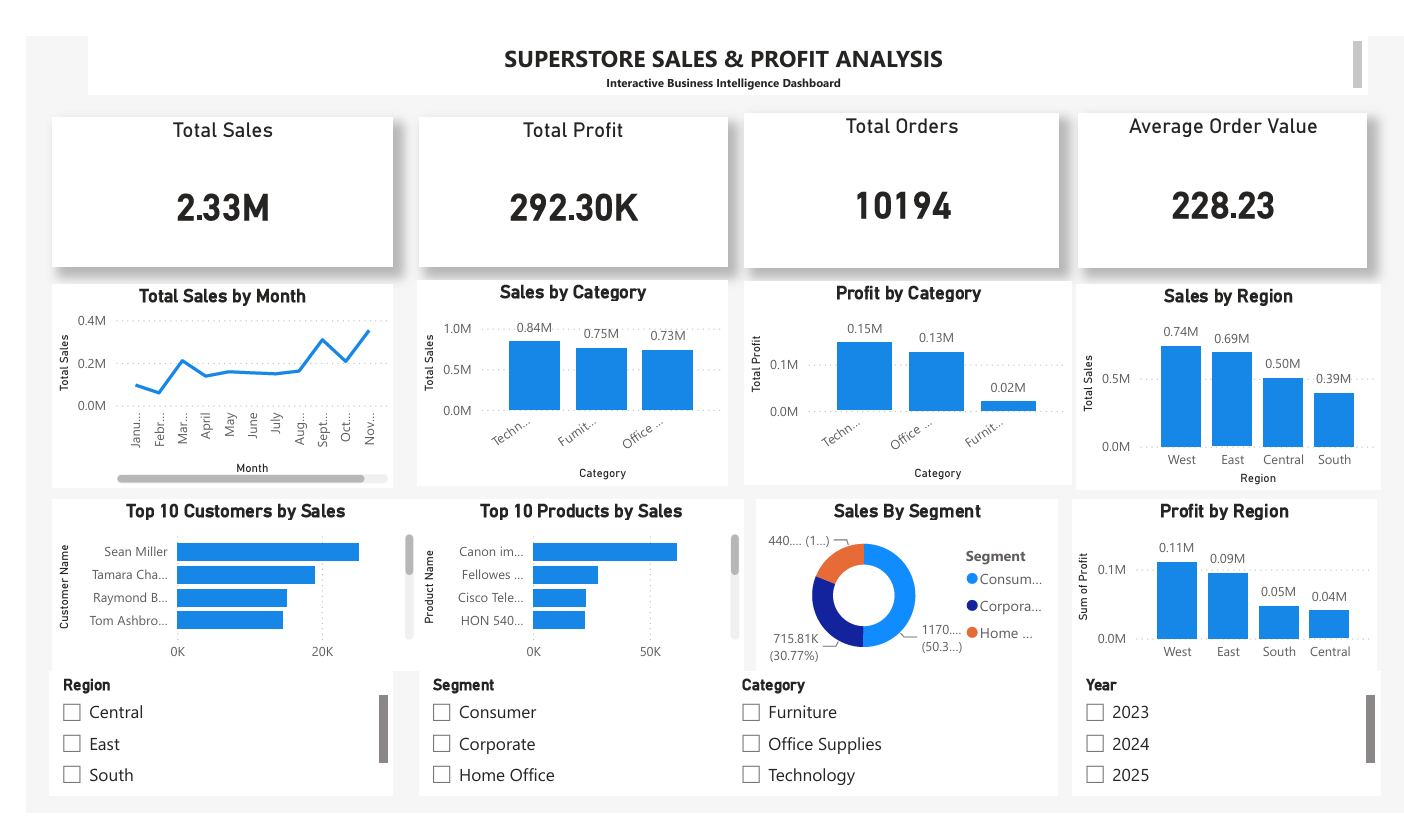

The dashboard page shown, as its layout file describes it:
{"tool":"powerbi","page":{"name":"Page 1","canvas":[1280,720],"ordinal":0},"visuals":[{"type":"card","title":"Total Sales","fields":{"Values":["superstore.Total Sales"]},"box":[24.1,74.8,316.1,138.7],"z":0},{"type":"card","title":"Total Profit","fields":{"Values":["superstore.Total Profit"]},"box":[364.3,74.8,285.9,138.7],"z":1000},{"type":"card","title":"Total Orders","fields":{"Values":["superstore.Total Order"]},"box":[666,71.2,292,142.4],"z":2000},{"type":"card","title":"Average Order Value","fields":{"Values":["superstore.Average Order Value"]},"box":[976,71.2,267.8,142.4],"z":3000},{"type":"lineChart","fields":{"Y":["superstore.Total Sales"],"Category":["superstore.Order Date.Variation.Date Hierarchy.Month"]},"box":[24.5,229.9,315.5,189.5],"z":4000},{"type":"clusteredColumnChart","title":" Sales by Category","fields":{"Category":["superstore.Category"],"Y":["superstore.Total Sales"]},"box":[363.2,226.2,287.4,189.5],"z":5000},{"type":"clusteredColumnChart","title":"Profit by Category","fields":{"Category":["superstore.Category"],"Y":["superstore.Total Profit"]},"box":[666,226.8,304,189.4],"z":6000},{"type":"clusteredColumnChart","title":"Sales by Region","fields":{"Category":["superstore.Region"],"Y":["superstore.Total Sales"]},"box":[973.6,230.4,282.3,189.4],"z":7000},{"type":"clusteredBarChart","title":"Top 10 Customers by Sales","fields":{"Category":["superstore.Customer Name"],"Y":["superstore.Total Sales"]},"box":[24.5,429.2,339.9,159],"z":8000},{"type":"clusteredBarChart","title":"Top 10 Products by Sales","fields":{"Category":["superstore.Product Name"],"Y":["superstore.Total Sales"]},"box":[363.2,429.2,303.3,159],"z":9000},{"type":"textbox","box":[57.5,0,1186.1,53.8],"z":9001},{"type":"donutChart","title":"Sales By Segment","fields":{"Category":["superstore.Segment"],"Y":["superstore.Total Sales"]},"box":[677.4,429.2,280,159],"z":9002},{"type":"clusteredColumnChart","title":"Profit by Region","fields":{"Category":["superstore.Region"],"Y":["Sum(superstore.Profit)"]},"box":[969.7,429.2,282.5,159],"z":9003},{"type":"slicer","fields":{"Values":["superstore.Region"]},"box":[20.8,588.2,319.2,114.9],"z":9004},{"type":"slicer","fields":{"Values":["superstore.Segment"]},"box":[364.4,588.2,313,114.9],"z":9005},{"type":"slicer","fields":{"Values":["superstore.Category"]},"box":[650.5,588.2,306.9,114.9],"z":9006},{"type":"slicer","fields":{"Values":["superstore.Order Date.Variation.Date Hierarchy.Year"]},"box":[969.7,588.2,286.1,114.9],"z":9007}]}

Visuals, with their boxes on the page's 1280x720 design canvas (x1, y1, x2, y2). These are canvas units, not pixel positions in the 1404x820 screenshot, which may show the page scaled, cropped or inside an application window:
"Total Sales" card: 24, 75, 340, 214
"Total Profit" card: 364, 75, 650, 214
"Total Orders" card: 666, 71, 958, 214
"Average Order Value" card: 976, 71, 1244, 214
lineChart - superstore.Total Sales x superstore.Order Date.Variation.Date Hierarchy.Month: 24, 230, 340, 419
" Sales by Category" clusteredColumnChart: 363, 226, 651, 416
"Profit by Category" clusteredColumnChart: 666, 227, 970, 416
"Sales by Region" clusteredColumnChart: 974, 230, 1256, 420
"Top 10 Customers by Sales" clusteredBarChart: 24, 429, 364, 588
"Top 10 Products by Sales" clusteredBarChart: 363, 429, 666, 588
textbox: 58, 0, 1244, 54
"Sales By Segment" donutChart: 677, 429, 957, 588
"Profit by Region" clusteredColumnChart: 970, 429, 1252, 588
slicer - superstore.Region: 21, 588, 340, 703
slicer - superstore.Segment: 364, 588, 677, 703
slicer - superstore.Category: 650, 588, 957, 703
slicer - superstore.Order Date.Variation.Date Hierarchy.Year: 970, 588, 1256, 703
